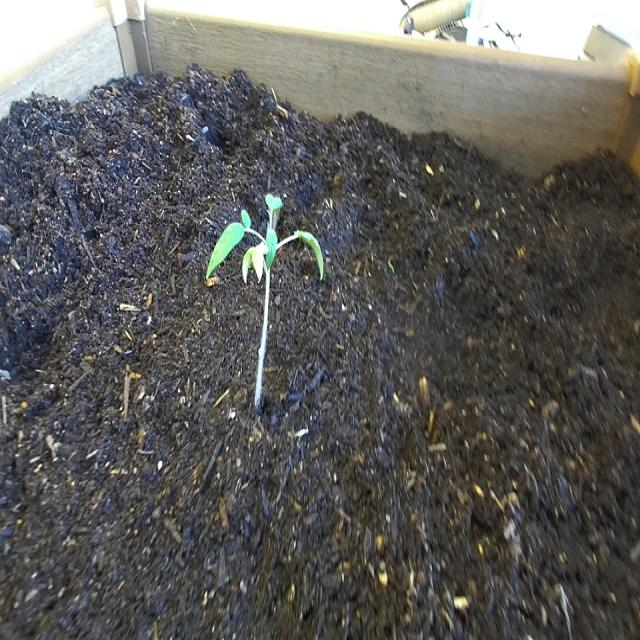Healthy: (196, 171, 332, 437)
